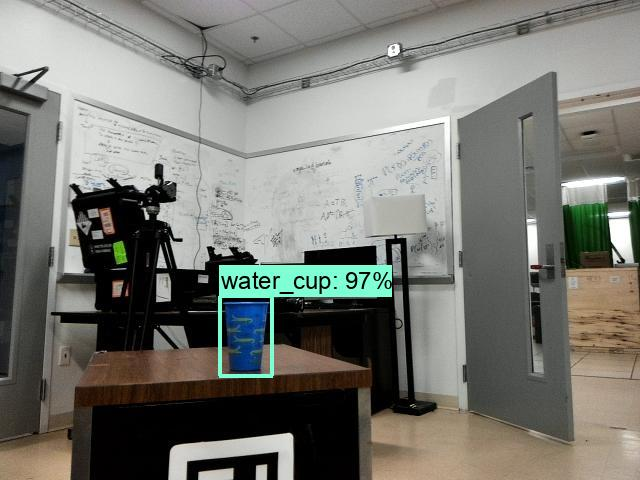water_cup: (216, 292, 279, 374)
